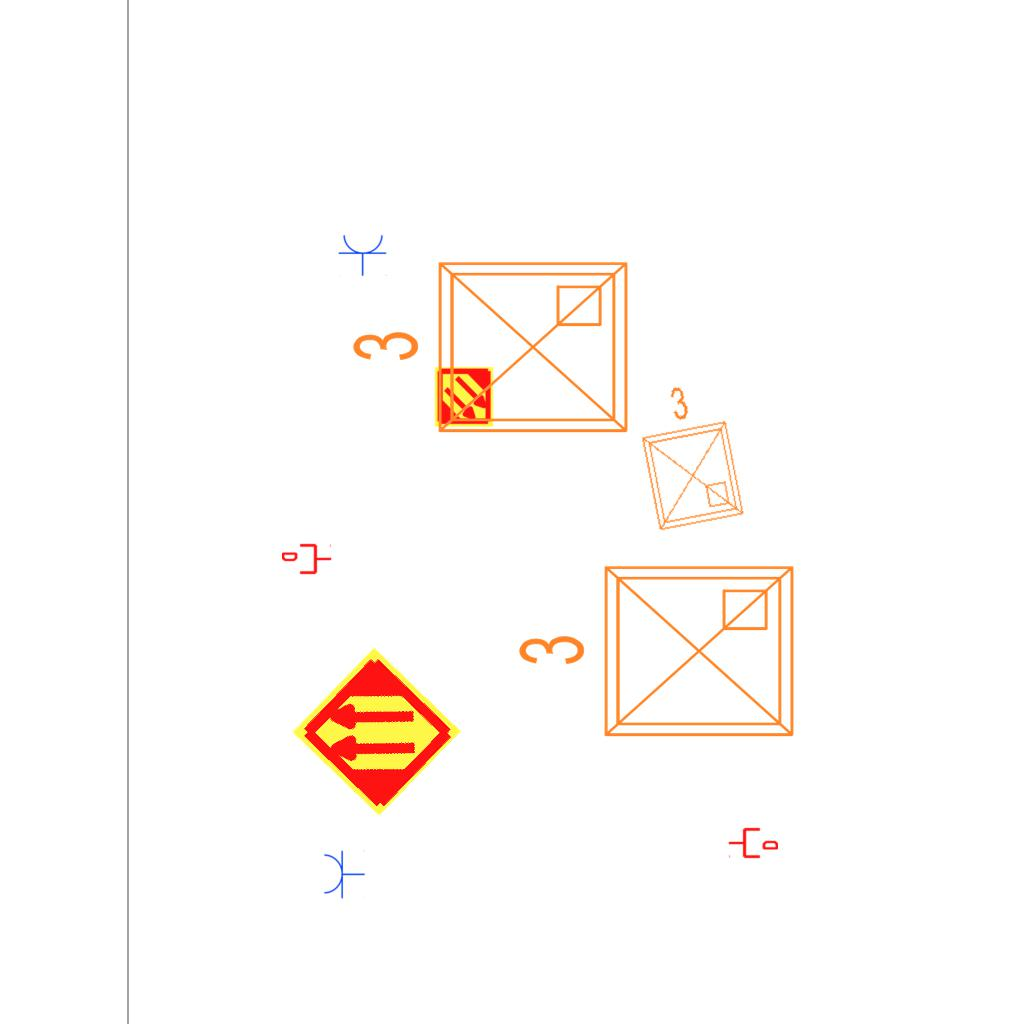ASR_Ansaugrauchmelder: (288, 643, 465, 820), (433, 366, 495, 428)
Datenanschluss_einfach: (282, 542, 332, 576), (728, 826, 778, 860)
Einbaudownlights_LED_Konferenzraeume: (508, 551, 808, 759), (342, 247, 642, 455), (621, 372, 753, 540)
Schukosteckdose_einfach: (338, 233, 388, 276), (322, 849, 365, 899)
